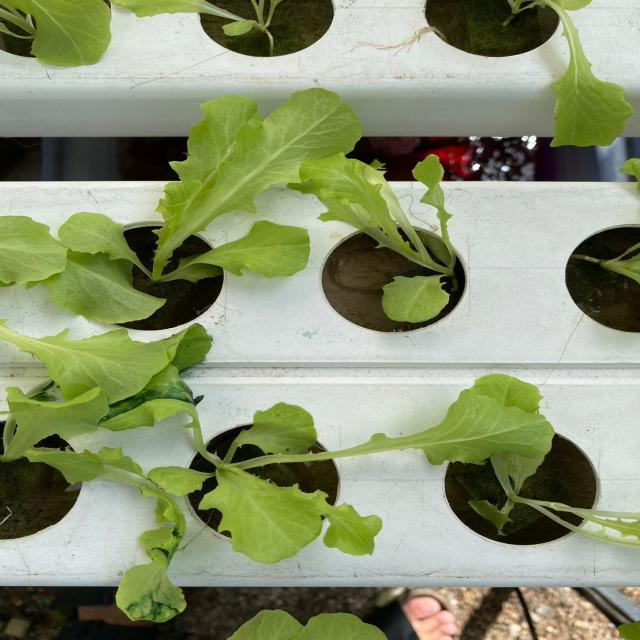Lettuce-Not-Ready-to-Harvest: (158, 395, 554, 575), (78, 86, 361, 312), (0, 402, 221, 614), (300, 149, 468, 322)
